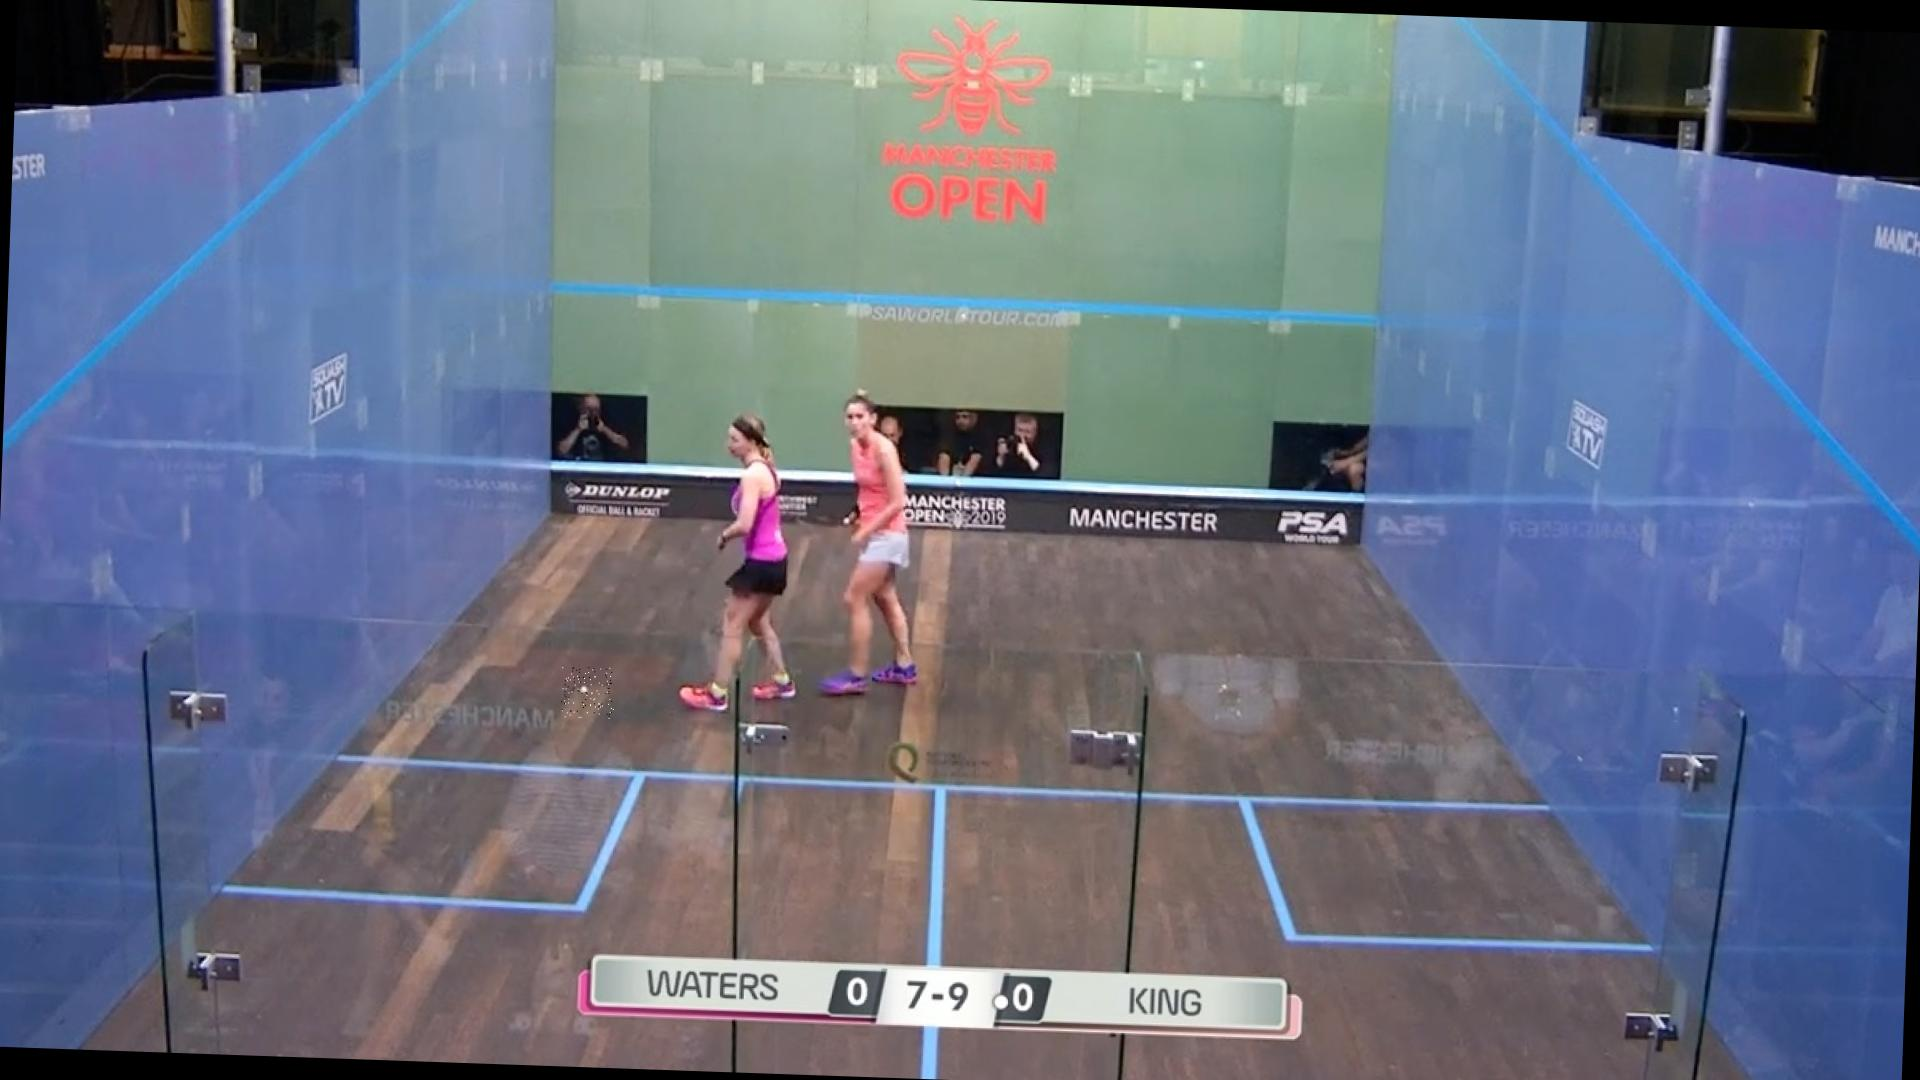Squash-Ball: (560, 666, 616, 719)
